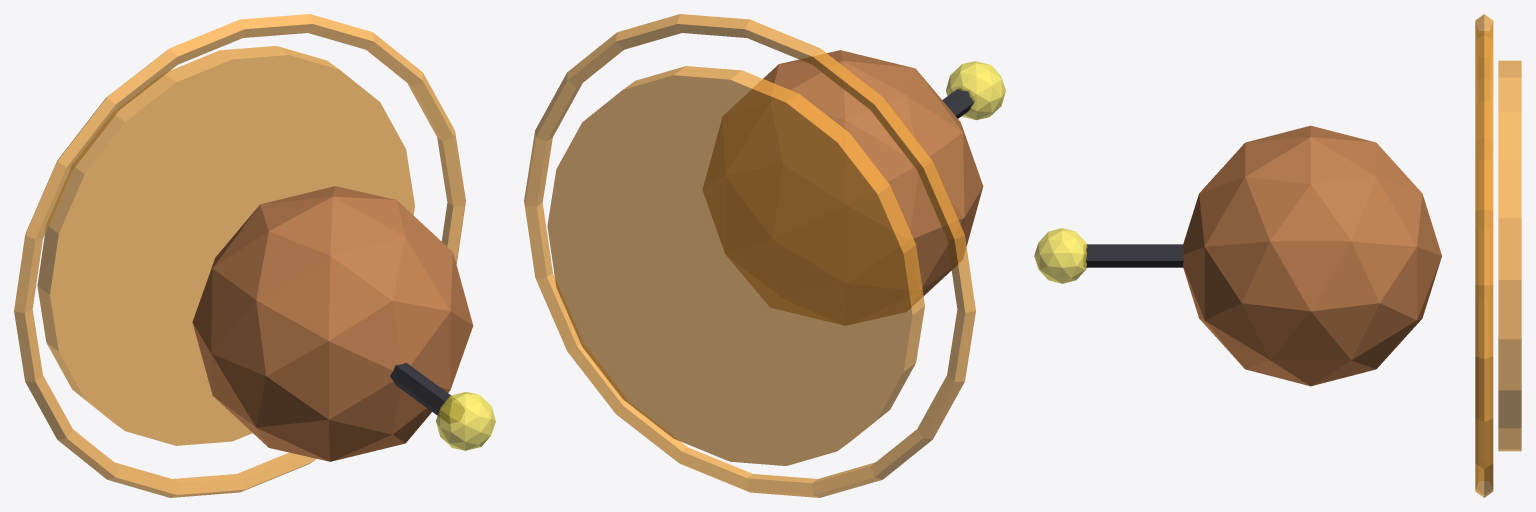
File: 08_grenade_projectile.glb
The picture shows the model from 3 angles, left to right: view 1: azimuth 30°, elevation 25°; view 2: azimuth 150°, elevation 25°; view 3: azimuth 270°, elevation 25°; orthographic projection. The views are drawn at different scales.
Parts seen in each view (by area): view 1: base_disc, explosive_body, base_ring, spark, fuse; view 2: base_disc, explosive_body, base_ring, spark, fuse; view 3: explosive_body, base_disc, base_ring, fuse, spark.
Boxes of the visible parts, x1,y1,x2,y2 form: base_disc: (37, 46, 414, 445); explosive_body: (192, 186, 473, 461); base_ring: (14, 14, 465, 497); spark: (436, 391, 495, 450); fuse: (390, 362, 464, 423); base_disc: (547, 66, 924, 465); explosive_body: (703, 50, 983, 325); base_ring: (524, 14, 975, 497); spark: (946, 61, 1005, 120); fuse: (942, 88, 974, 118); explosive_body: (1182, 125, 1441, 386); base_disc: (1498, 60, 1521, 451); base_ring: (1475, 14, 1493, 497); fuse: (1084, 244, 1183, 267); spark: (1034, 228, 1087, 283).
Bounding box in the file's own units: 1.04 × 1.04 × 1.04.
